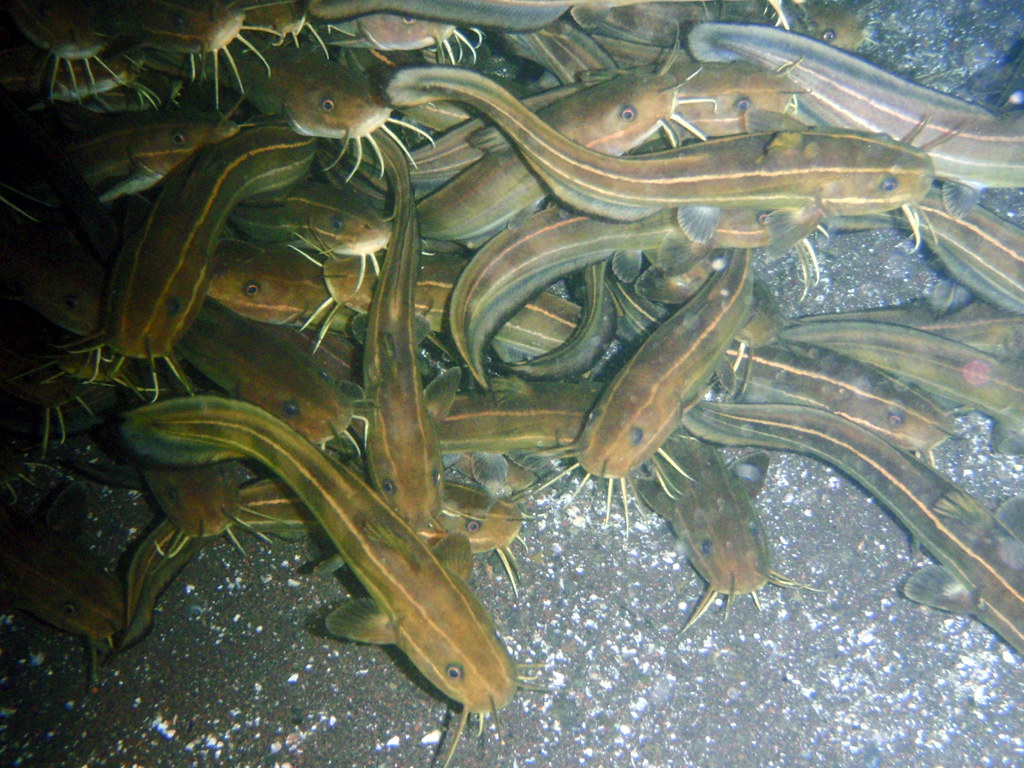gonzui: (107, 393, 549, 712), (524, 121, 939, 234)
